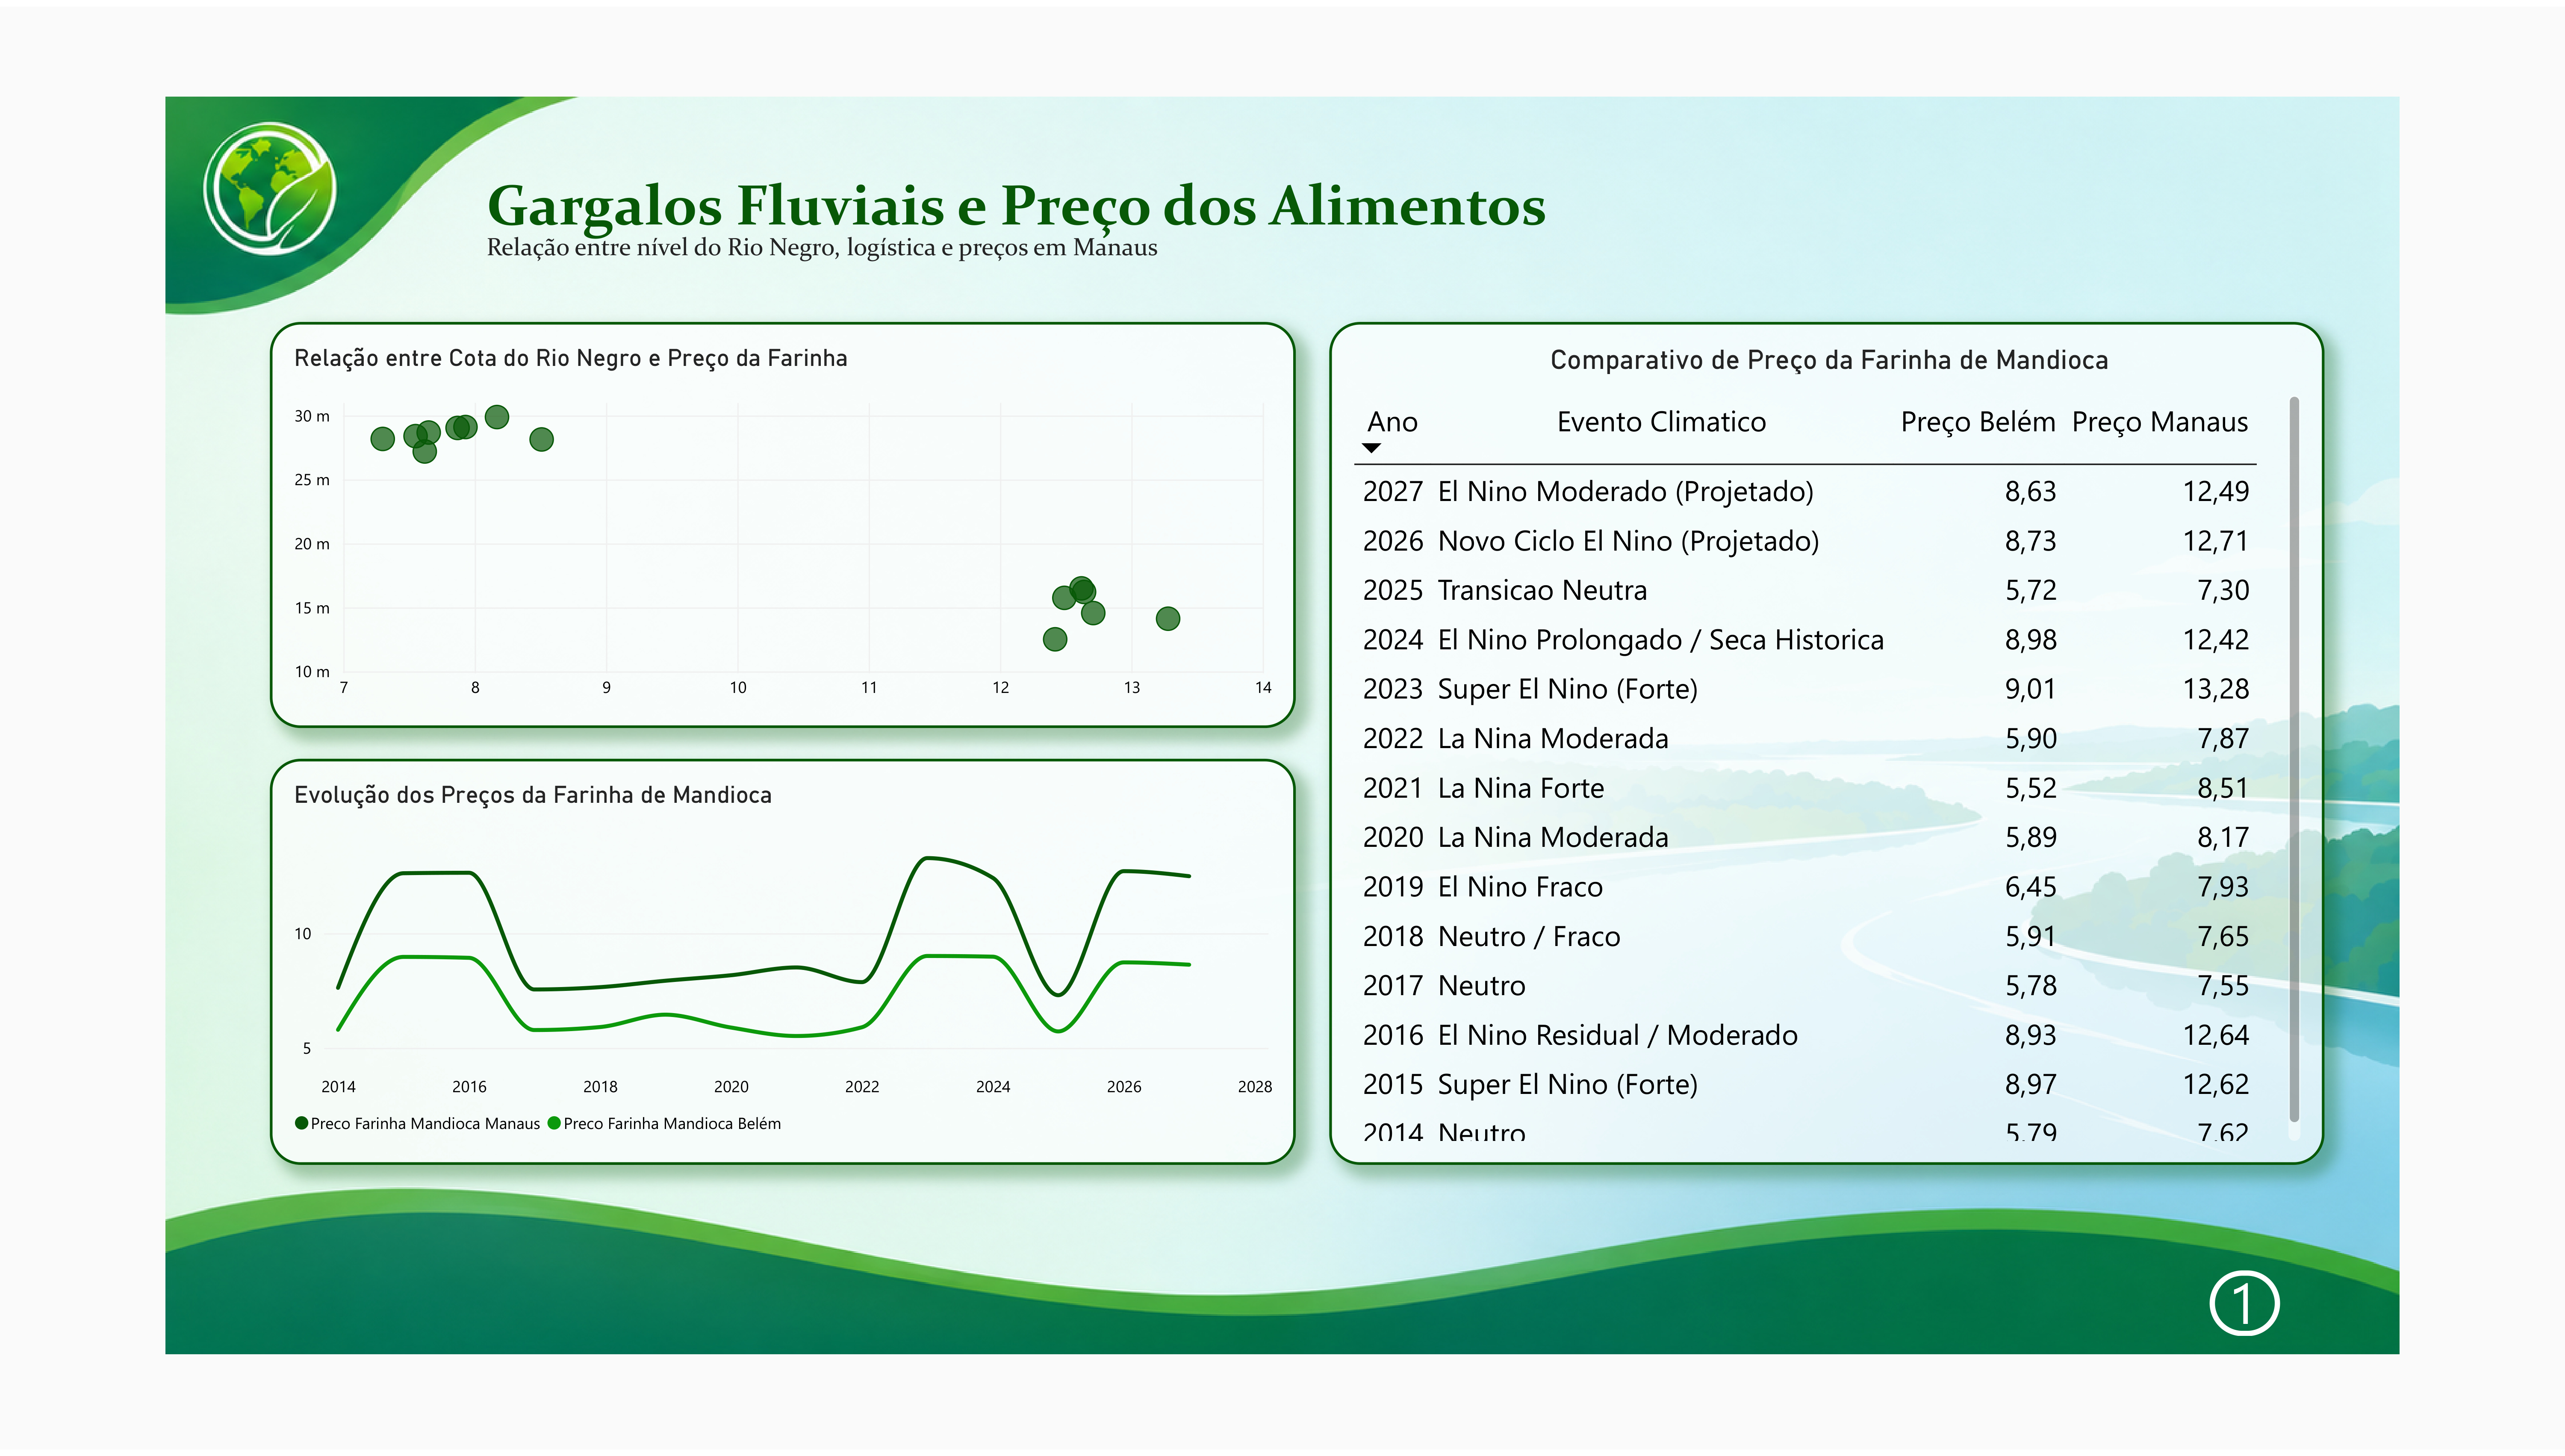

Layout of this report page (visuals, bound fields, positions):
{"tool":"powerbi","page":{"name":"Tela 4","canvas":[1920,1080],"ordinal":3},"visuals":[{"type":"scatterChart","title":"Preço Farinha Mandioca Manaus em Kg e Cota Rio Negro Porto Manaus ","fields":{"X":["Sum(fato_seguranca_alimentar_mensal.Preco_Farinha_Mandioca_Manaus_kg)"],"Y":["fato_seguranca_alimentar_mensal.Cota_Rio_Negro_Porto_Manaus_m"]},"box":[157.1,198.6,812.9,324.3],"z":0},{"type":"lineChart","title":"Preço da Farinha de Mandioca em Belem Kg e Preço Farinha Mandioca em Manaus Kg Por Ano","fields":{"Category":["analise_spread_logistico.Ano"],"Y":["Sum(analise_spread_logistico.Preco_Farinha_Mandioca_Manaus_kg)","Sum(analise_spread_logistico.Preco_Farinha_Mandioca_Belem_kg)"]},"box":[157.1,540,812.9,324.3],"z":1000},{"type":"tableEx","fields":{"Values":["analise_spread_logistico.Ano","fato_clima_mensal.Evento_Climatico","Sum(analise_spread_logistico.Preco_Farinha_Mandioca_Belem_kg)","Sum(analise_spread_logistico.Preco_Farinha_Mandioca_Manaus_kg)"]},"box":[995.7,258.6,768.6,498.6],"z":2000},{"type":"textbox","box":[282.9,91.4,582.9,91.4],"z":2001}]}

Visuals, with their boxes in screenshot pixels (x1, y1, x2, y2), scaled from the page's 1920x1080 canvas onto the 2565x1456 screenshot:
"Preço Farinha Mandioca Manaus em Kg e Cota Rio Negro Porto Manaus " scatterChart: box(210, 268, 1296, 705)
"Preço da Farinha de Mandioca em Belem Kg e Preço Farinha Mandioca em Manaus Kg Por Ano" lineChart: box(210, 728, 1296, 1165)
tableEx - analise_spread_logistico.Ano x fato_clima_mensal.Evento_Climatico: box(1330, 349, 2357, 1021)
textbox: box(378, 123, 1157, 246)
